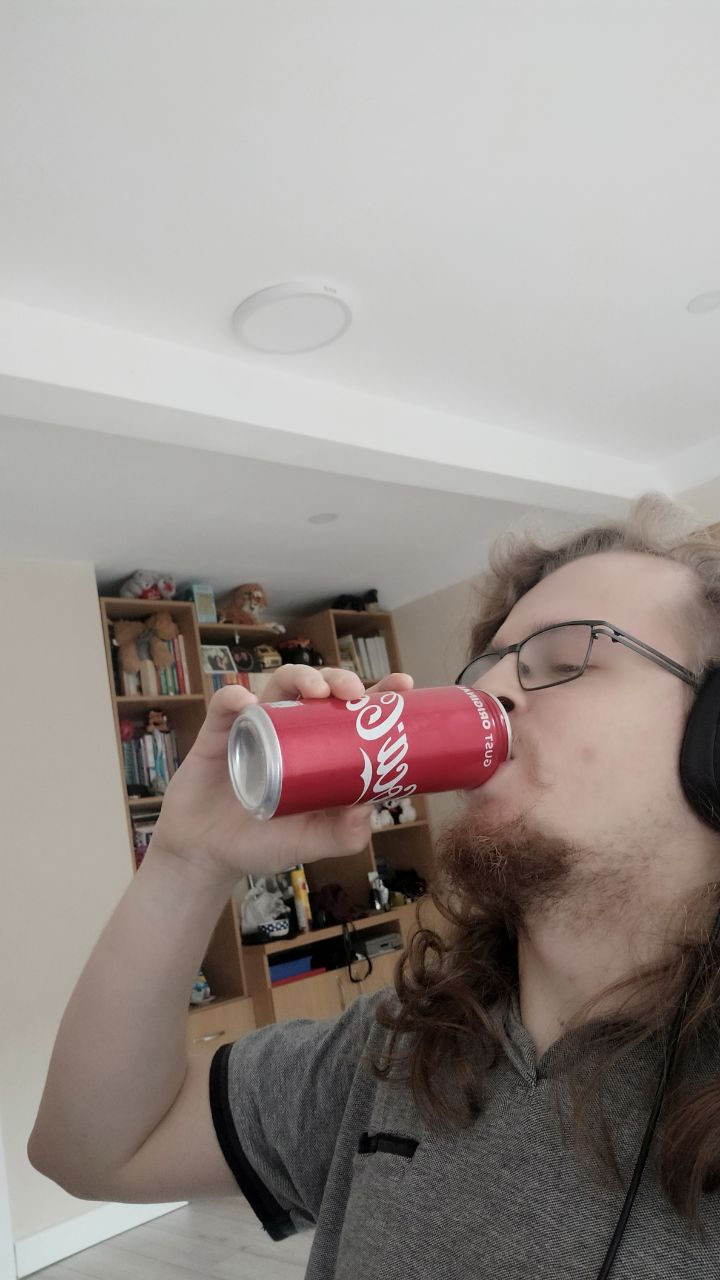Can: (221, 680, 521, 831)
